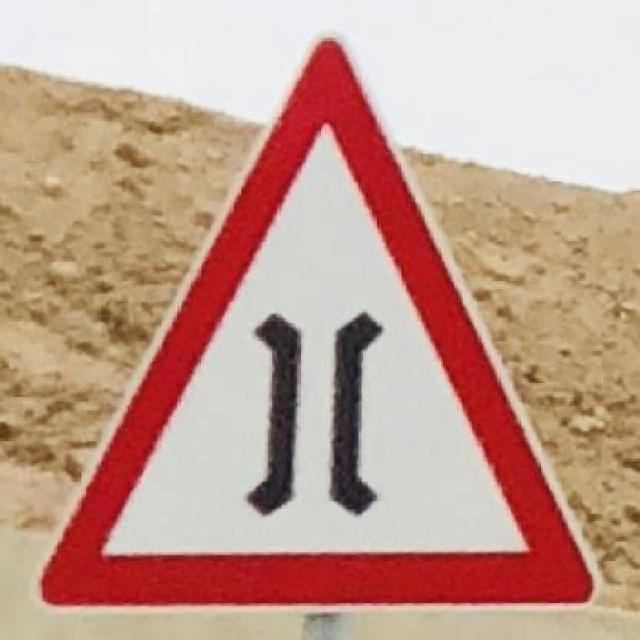pedestrian crossing: (37, 32, 595, 611)
